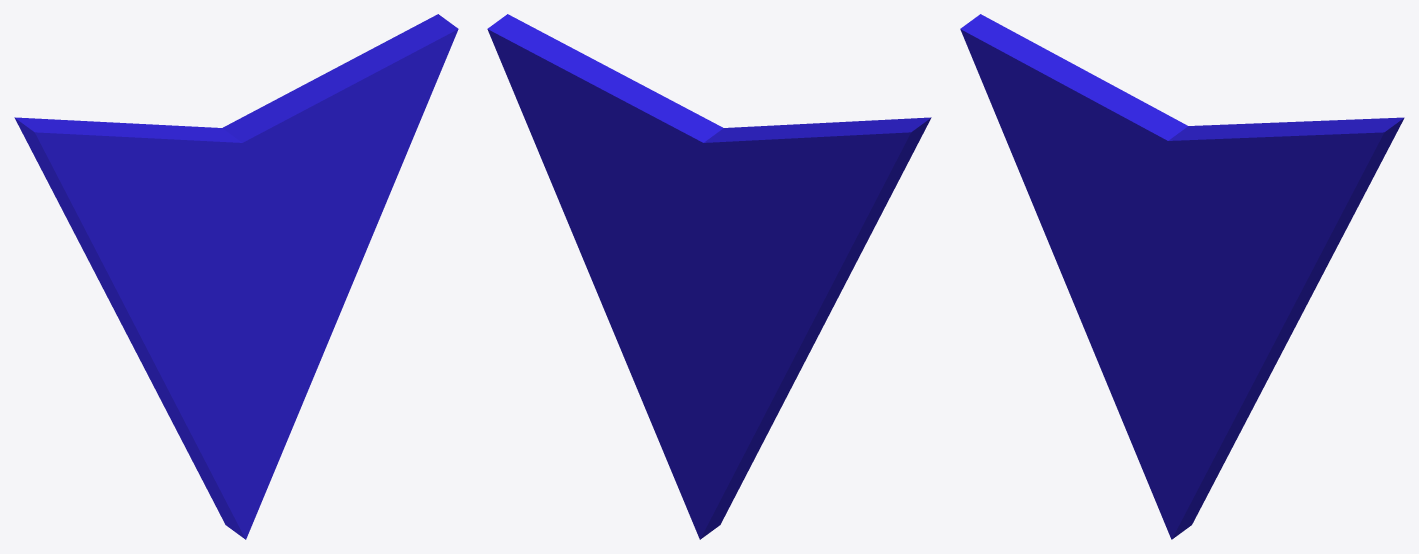
The model's file is situm_arrow.glb.
The picture shows the model from 3 angles, left to right: view 1: azimuth 30°, elevation 25°; view 2: azimuth 150°, elevation 25°; view 3: azimuth 330°, elevation 25°; orthographic projection.
Parts seen in each view (by area): view 1: Plane; view 2: Plane; view 3: Plane.
Boxes of the visible parts, bbox=[...] form: Plane: bbox=[14, 14, 458, 539]; Plane: bbox=[487, 14, 931, 539]; Plane: bbox=[960, 14, 1404, 539].
Size of the model in its own units: 6 by 6.21 by 0.5.
